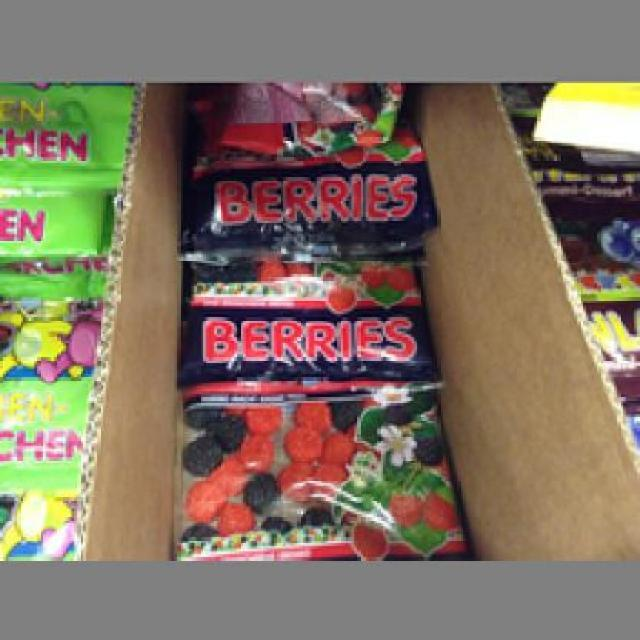Candy: (177, 260, 446, 560), (188, 88, 424, 245)
